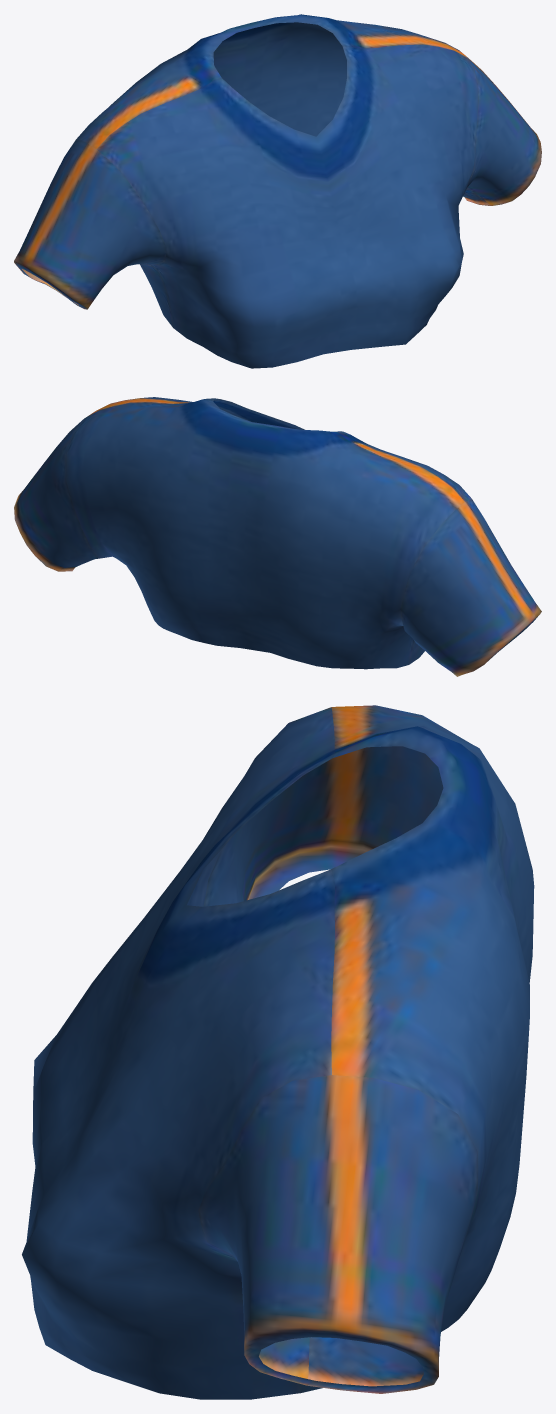
File: croptop.glb
The picture shows the model from 3 angles, top to bottom: view 1: azimuth 30°, elevation 25°; view 2: azimuth 150°, elevation 25°; view 3: azimuth 270°, elevation 25°; orthographic projection. The views are drawn at different scales.
Visible parts, largest first — view 1: croptop; view 2: croptop; view 3: croptop.
Part boxes in pixels (<box>): croptop: <box>14,14,541,368</box>; croptop: <box>14,397,541,676</box>; croptop: <box>22,705,534,1399</box>.
Size of the model in its own units: 0.5364 by 0.2596 by 0.2342.
Materials: 1 (1 with a texture image).
